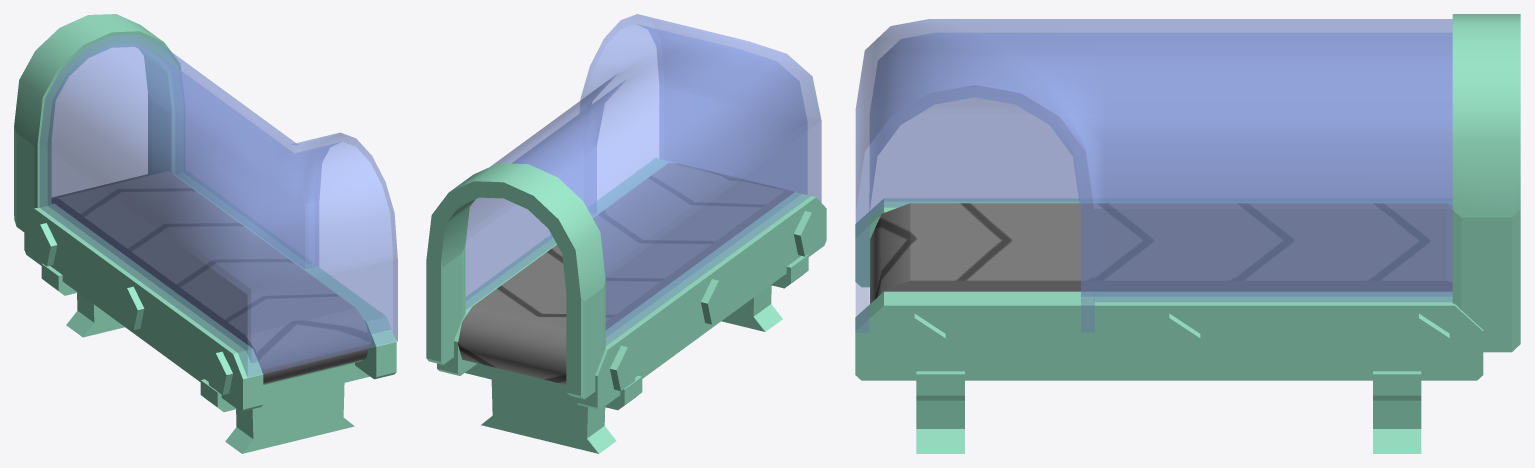
Rendered from factory_belt_right.FBX.
3 views of the same model, side by side, from view 1: azimuth 30°, elevation 25°; view 2: azimuth 150°, elevation 25°; view 3: azimuth 270°, elevation 25° (orthographic). The views are drawn at different scales.
Visible parts, largest first — view 1: factory_belt_left_base, factory_lbelt_left_belt; view 2: factory_belt_left_base, factory_lbelt_left_belt; view 3: factory_belt_left_base, factory_lbelt_left_belt.
Boxes of the visible parts, left/top/right/bottom form: factory_belt_left_base: left=14, top=14, right=397, bottom=453; factory_lbelt_left_belt: left=52, top=171, right=369, bottom=383; factory_belt_left_base: left=426, top=14, right=826, bottom=453; factory_lbelt_left_belt: left=458, top=163, right=793, bottom=384; factory_belt_left_base: left=855, top=14, right=1520, bottom=453; factory_lbelt_left_belt: left=870, top=203, right=1452, bottom=303.
Size of the model in its own units: 130 by 314 by 202.
